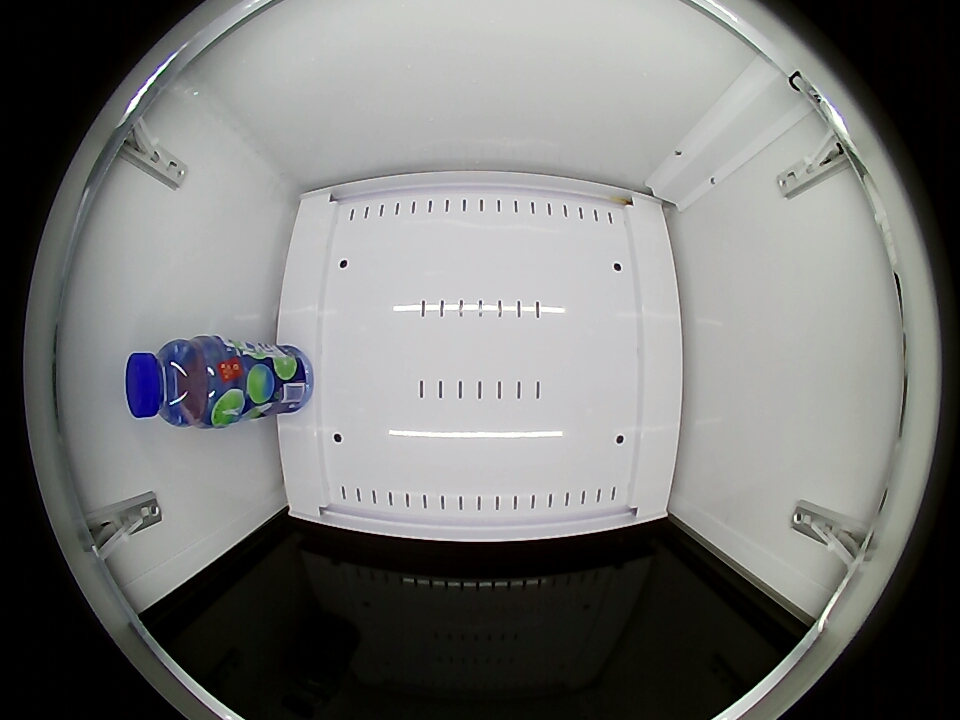maidong: (125, 336, 227, 427)
